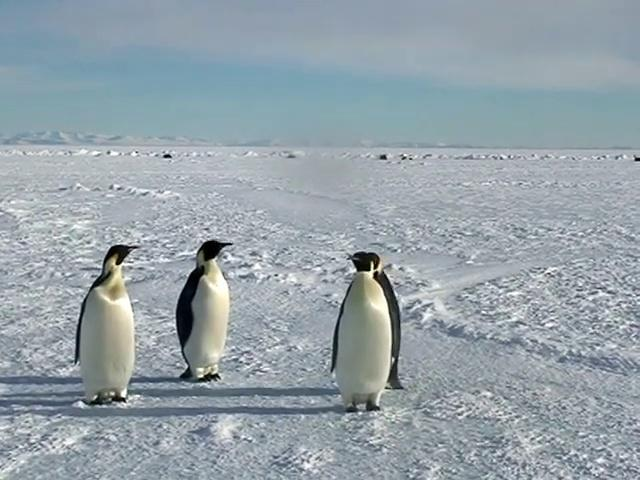animal: (332, 254, 392, 412)
